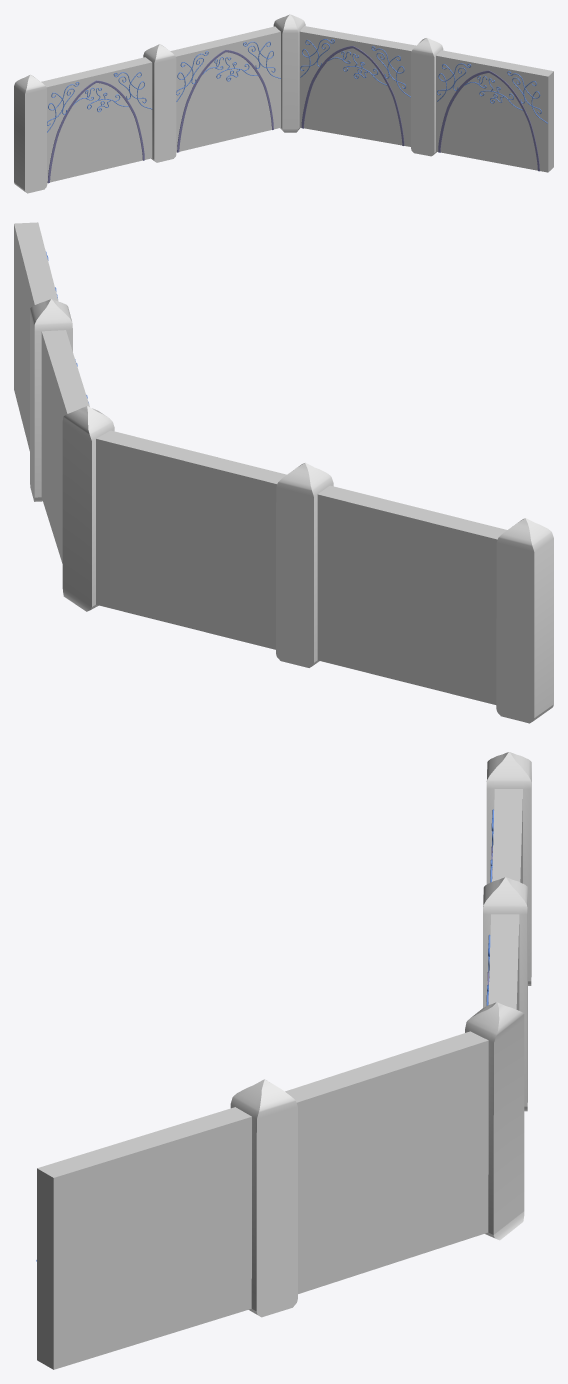
File: BoundaryWall.fbx
The picture shows the model from 3 angles, top to bottom: view 1: azimuth 30°, elevation 25°; view 2: azimuth 150°, elevation 25°; view 3: azimuth 270°, elevation 25°; orthographic projection. The views are drawn at different scales.
Parts seen in each view (by area): view 1: Cube.001; view 2: Cube.001; view 3: Cube.001.
Boxes of the visible parts, x1,y1,x2,y2 form: Cube.001: [14, 14, 553, 193]; Cube.001: [14, 222, 553, 723]; Cube.001: [36, 752, 531, 1369].
Size of the model in its own units: 2188 by 560 by 1116.
